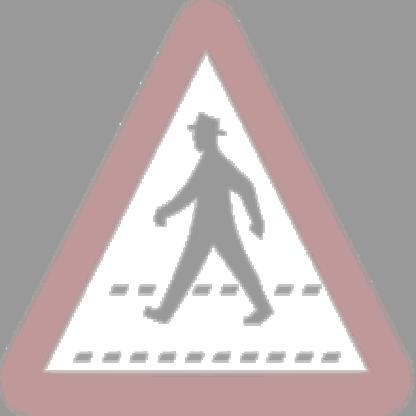Pedestrian Crossing: (45, 43, 407, 382)
